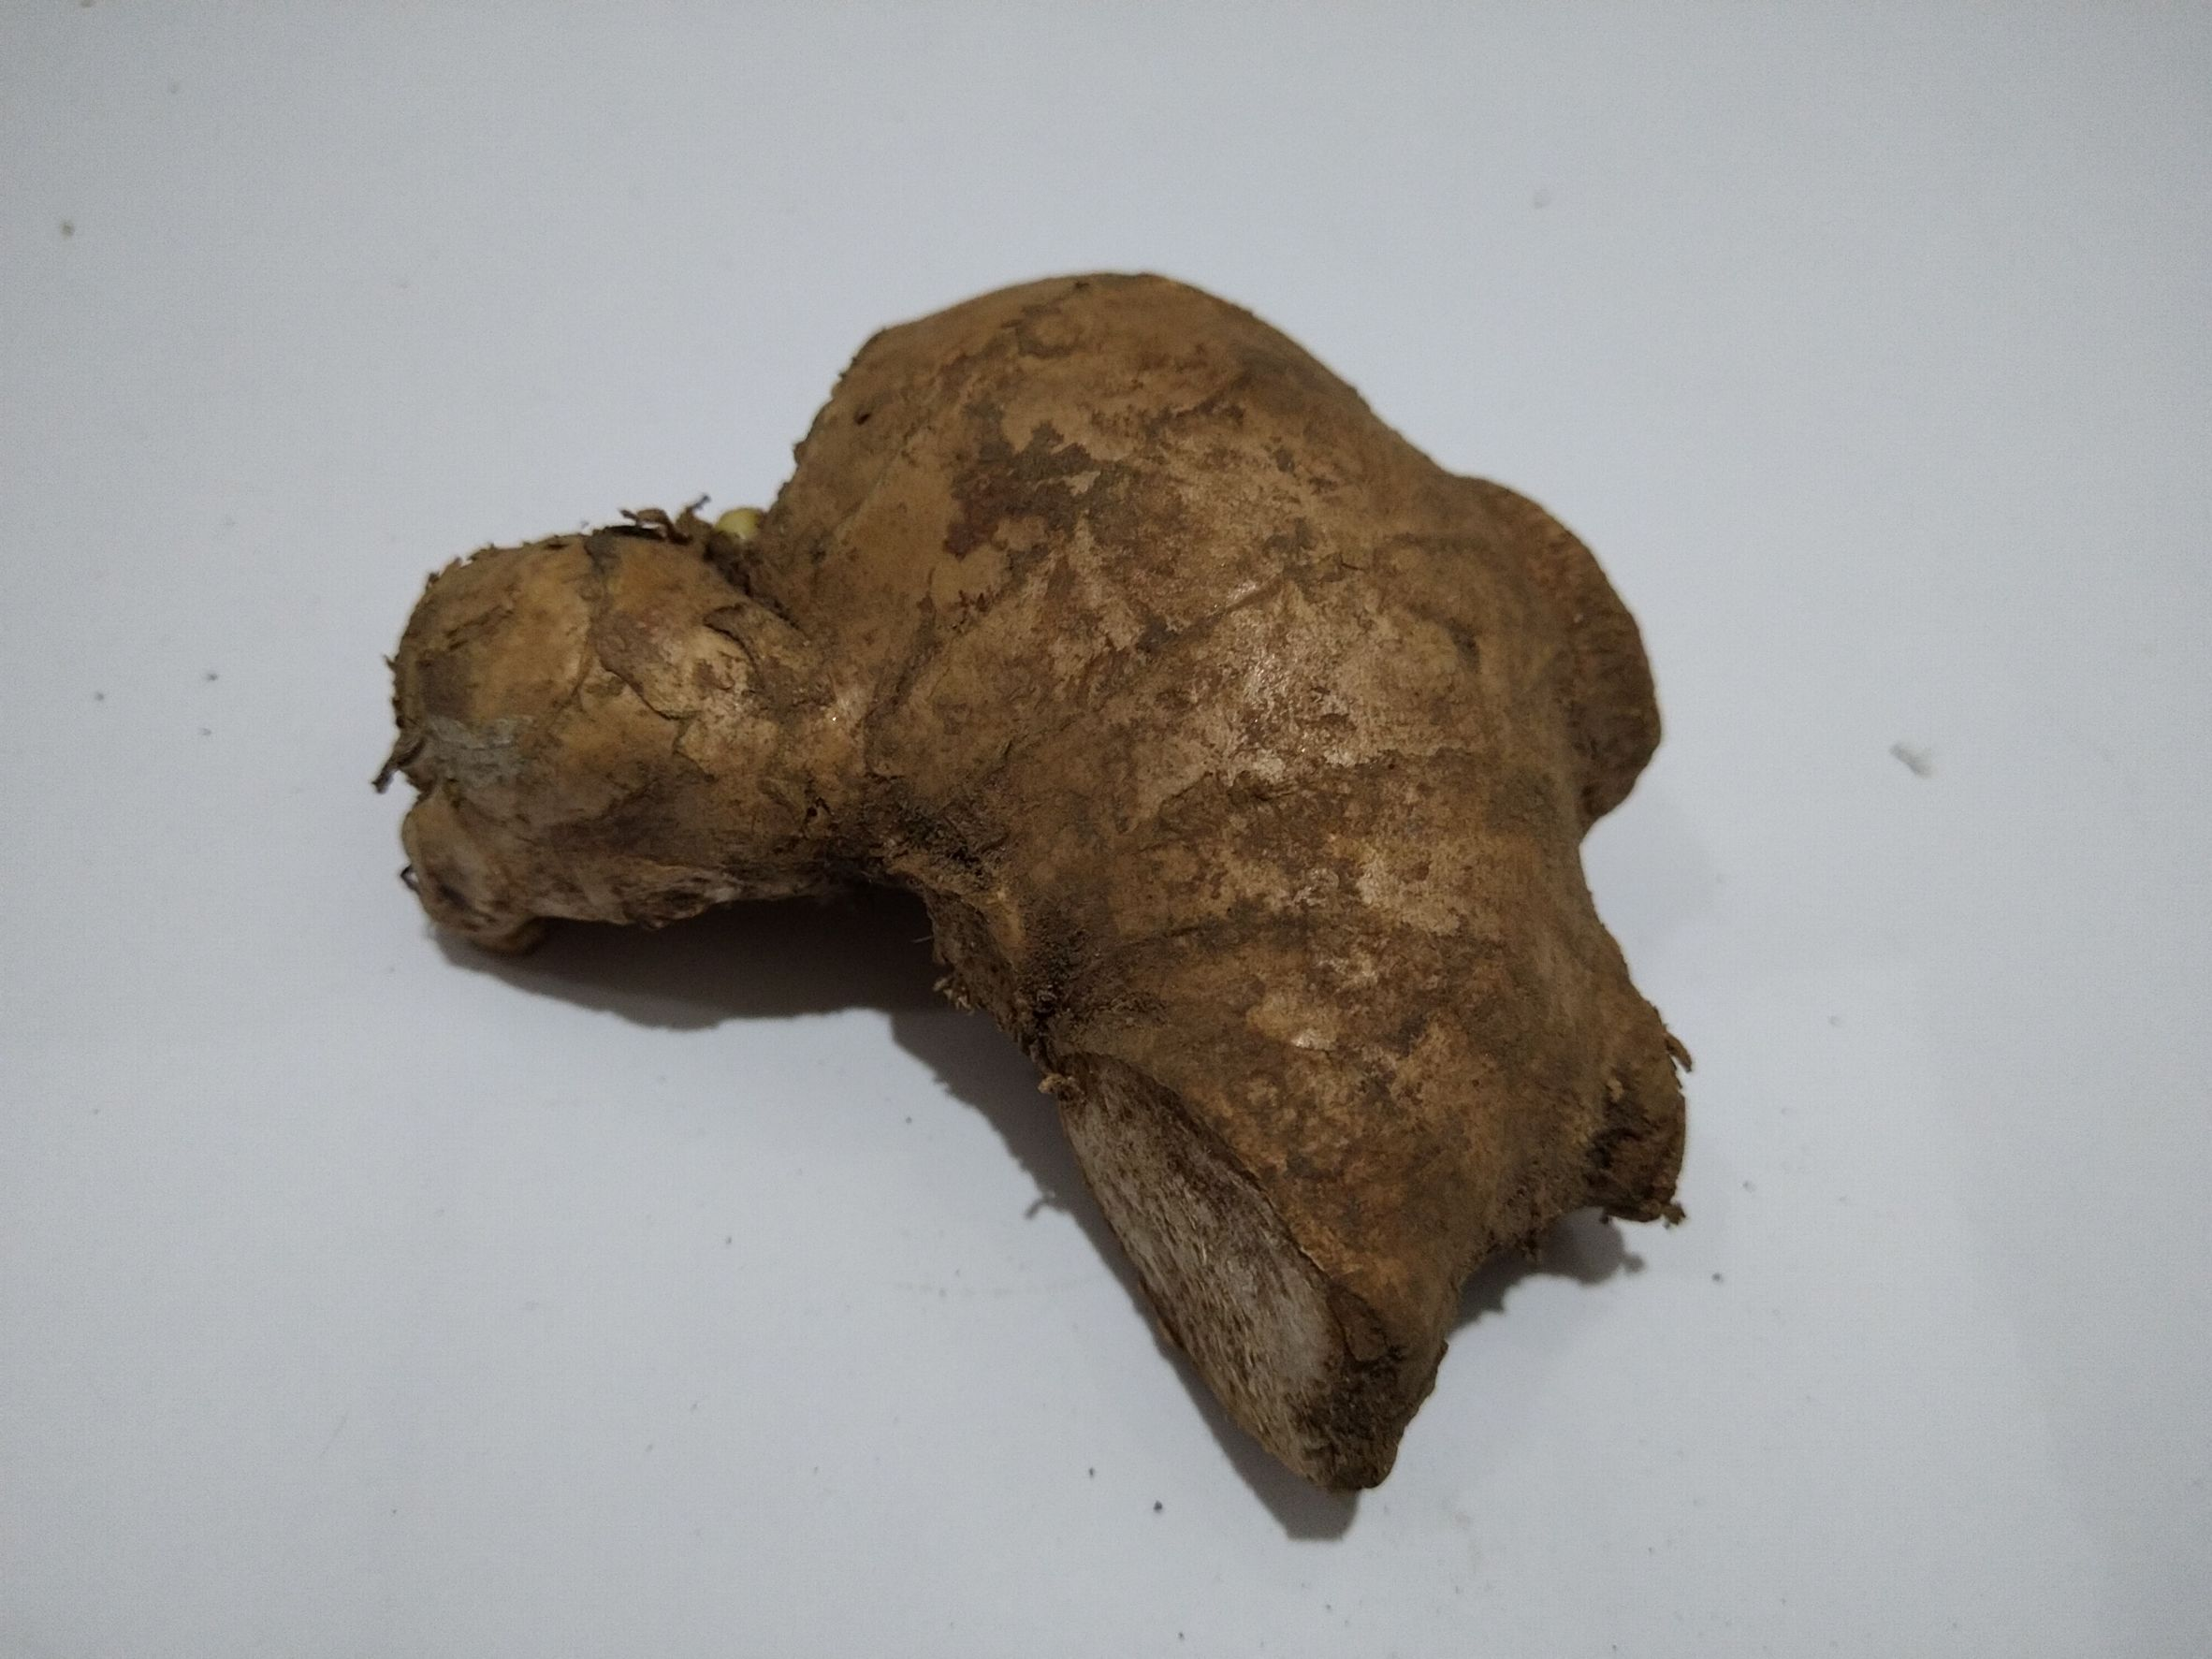Jahe: (394, 300, 1681, 1525)
